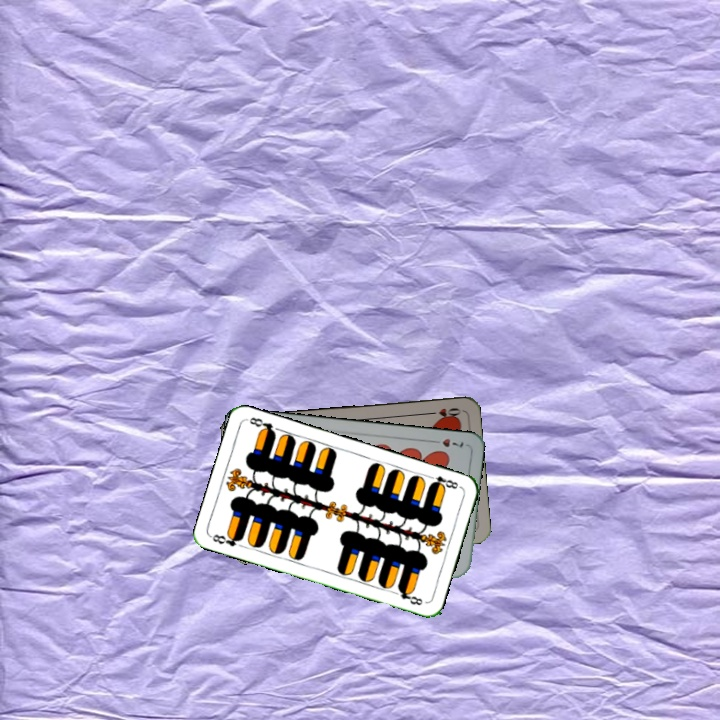E8: (424, 471, 463, 492), (207, 530, 245, 549)
H7: (427, 434, 466, 450)
HO: (423, 403, 463, 421)
